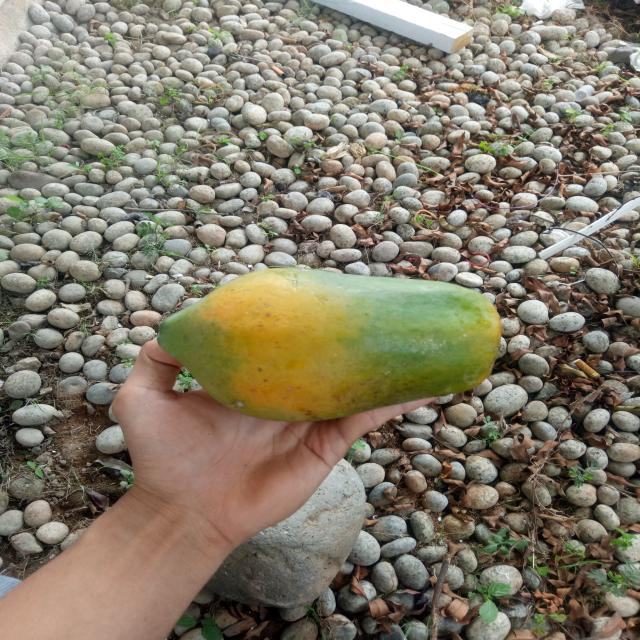Pepaya rippen: (155, 249, 509, 423)
